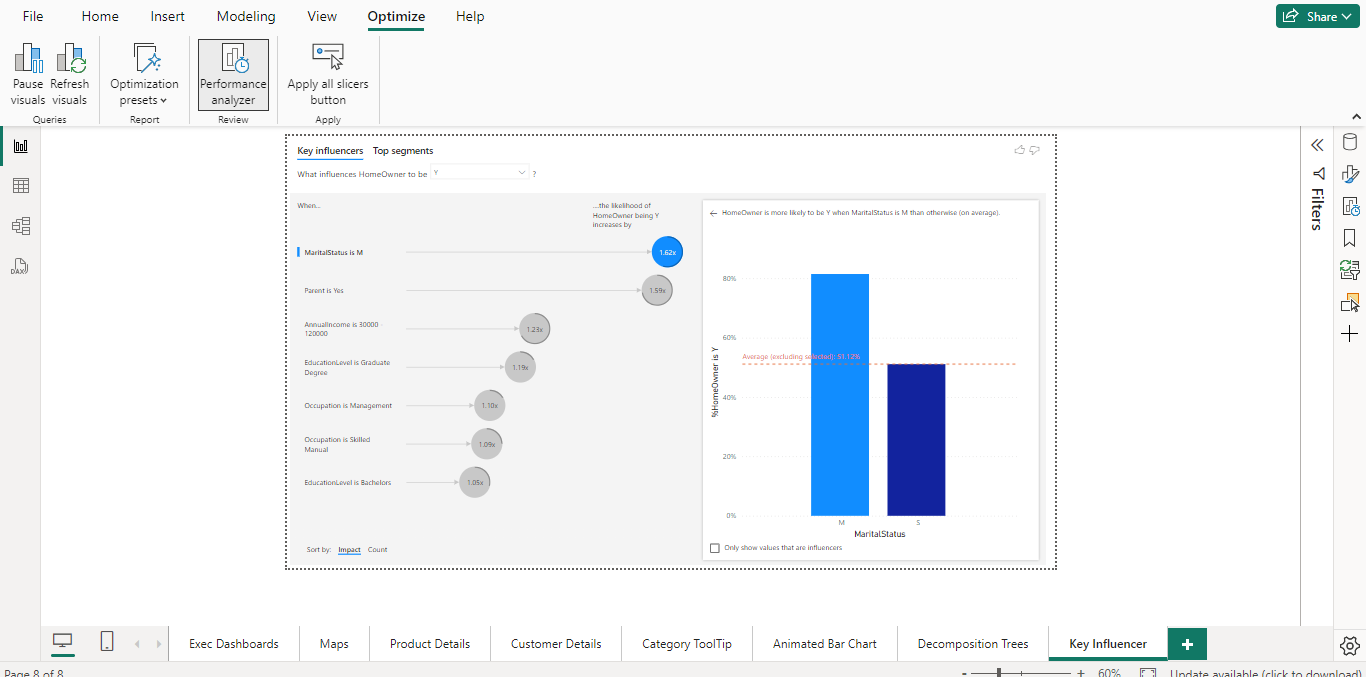

The dashboard page shown, as its layout file describes it:
{"tool":"powerbi","page":{"name":"Key Influencer","canvas":[1280,720],"ordinal":7},"visuals":[{"type":"keyDriversVisual","fields":{"Target":["Customer Lookup.HomeOwner"],"ExplainBy":["Customer Lookup.AnnualIncome","Customer Lookup.EducationLevel","Customer Lookup.Parent","Customer Lookup.MaritalStatus","Customer Lookup.Occupation"]},"box":[0,0,1270,720],"z":0}]}

Visuals, with their boxes on the page's 1280x720 design canvas (x1, y1, x2, y2). These are canvas units, not pixel positions in the 1366x677 screenshot, which may show the page scaled, cropped or inside an application window:
keyDriversVisual - Customer Lookup.HomeOwner x Customer Lookup.AnnualIncome: [left=0, top=0, right=1270, bottom=720]
